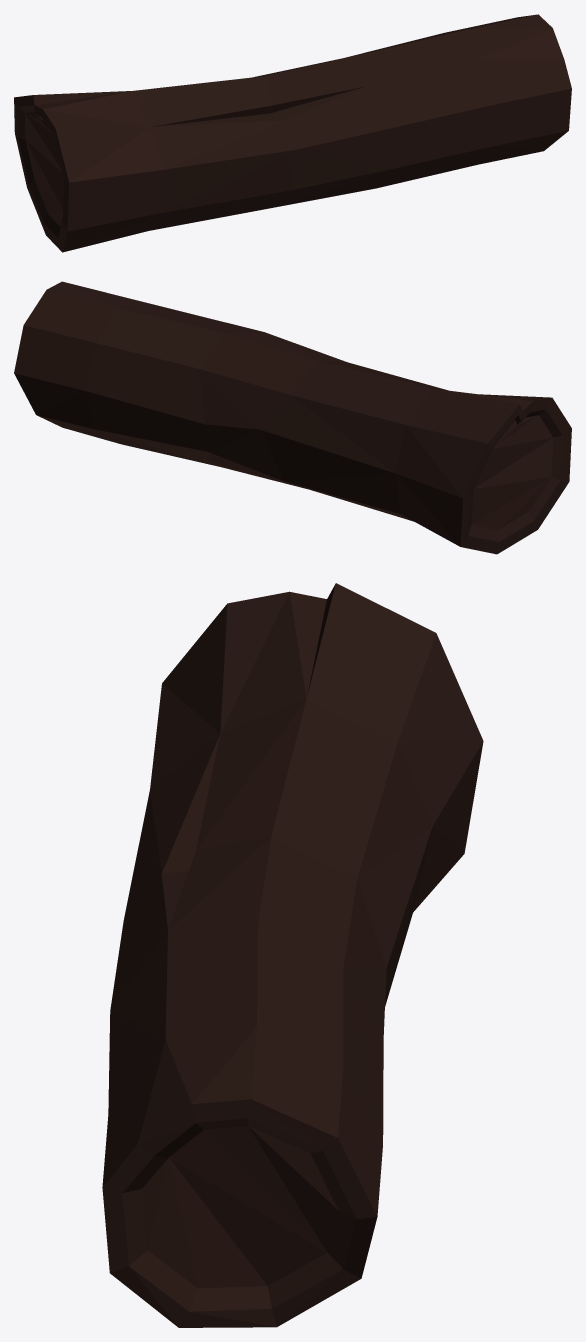
The model's file is WoodLog.004.fbx.
3 renders of one model, top to bottom at view 1: azimuth 30°, elevation 25°; view 2: azimuth 150°, elevation 25°; view 3: azimuth 270°, elevation 25°, orthographic. The views are drawn at different scales.
Visible parts, largest first — view 1: WoodLog.004; view 2: WoodLog.004; view 3: WoodLog.004.
Part boxes in pixels (x1,y1,x2,y2): WoodLog.004: [14, 14, 571, 252]; WoodLog.004: [14, 281, 571, 554]; WoodLog.004: [102, 583, 483, 1327].
Bounding box in the file's own units: 175 × 58.63 × 50.47.
